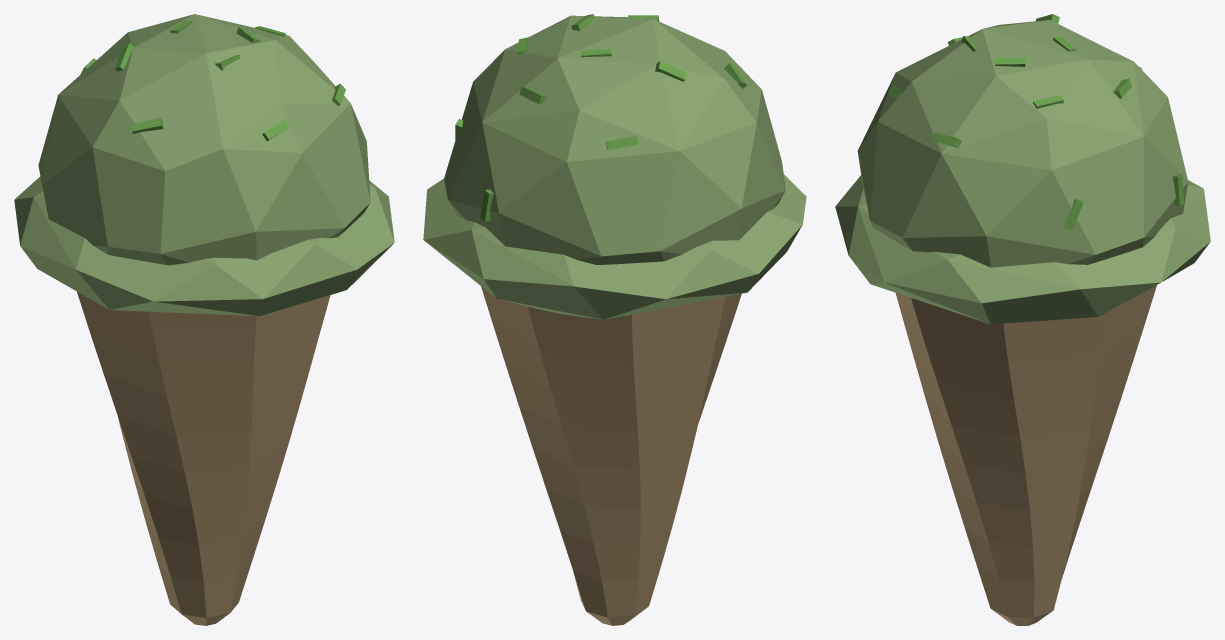
The model's file is ice_cream.glb.
The picture shows the model from 3 angles, left to right: view 1: azimuth 30°, elevation 25°; view 2: azimuth 150°, elevation 25°; view 3: azimuth 270°, elevation 25°; orthographic projection.
Visible parts, largest first — view 1: IceCream_1; view 2: IceCream_1; view 3: IceCream_1.
Part boxes in pixels (x1,y1,x2,y2): IceCream_1: (14, 14, 394, 625); IceCream_1: (423, 14, 806, 625); IceCream_1: (835, 14, 1210, 625).
Bounding box in the file's own units: 0.7006 × 1.2 × 0.7006.
